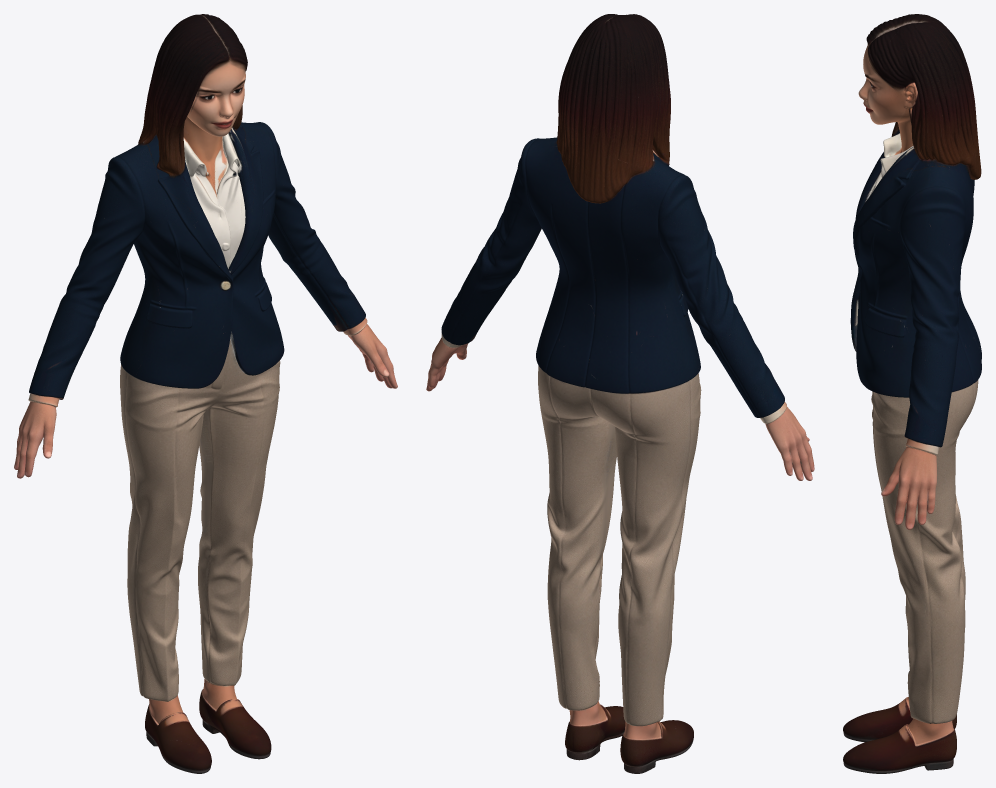
File: employee-05.glb
The picture shows the model from 3 angles, left to right: view 1: azimuth 30°, elevation 25°; view 2: azimuth 150°, elevation 25°; view 3: azimuth 270°, elevation 25°; orthographic projection.
Bounding box in the file's own units: 1.04 × 1.9 × 0.3256.
Materials: 1 (1 with a texture image).
